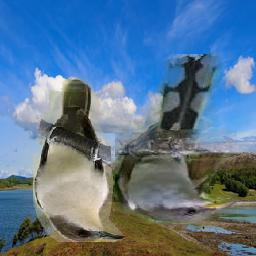Cuckoo: (115, 54, 237, 224), (33, 76, 125, 242)
